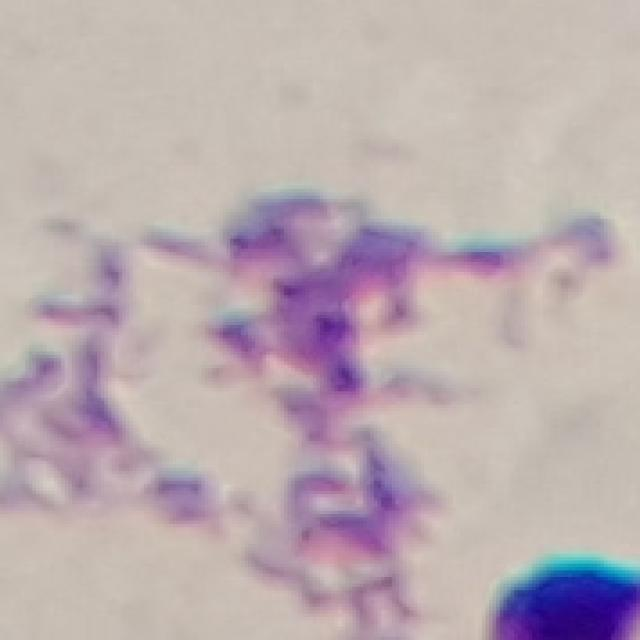non-sperm: (202, 187, 449, 438)
